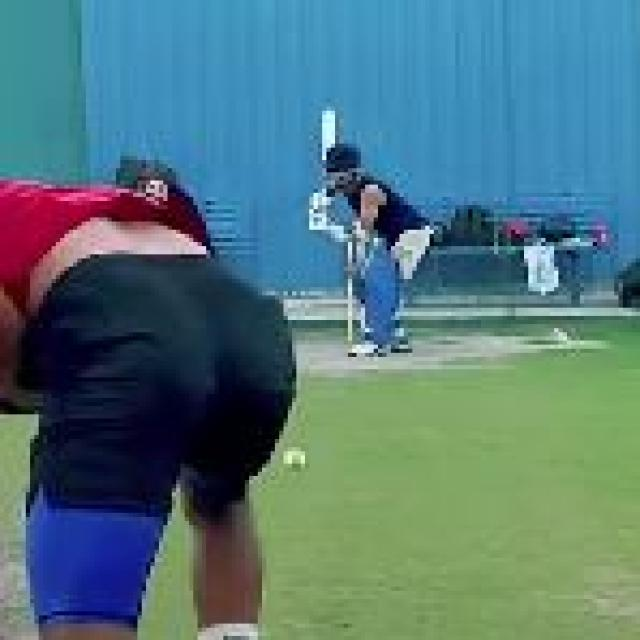ball: (284, 442, 313, 475)
